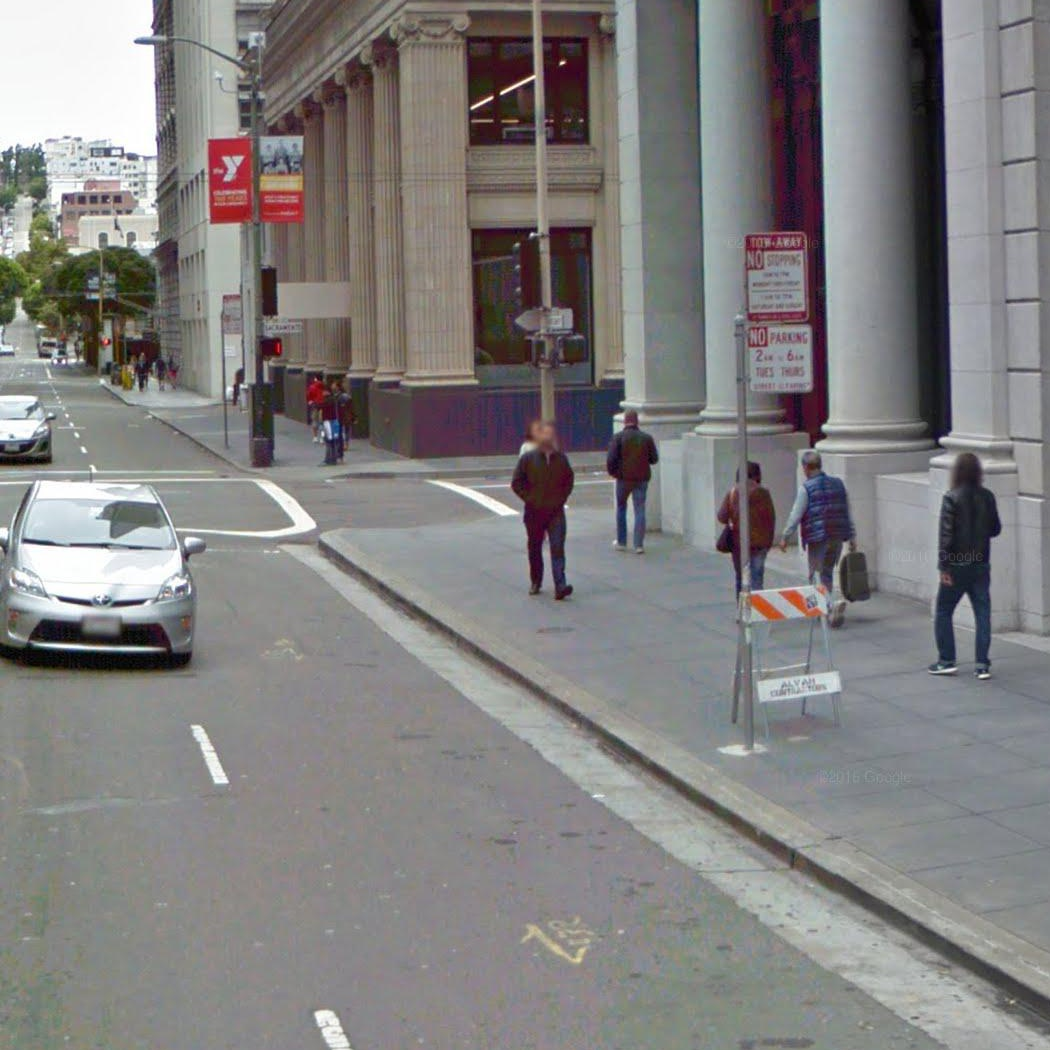No Parking: (742, 230, 811, 323), (744, 319, 814, 394)
